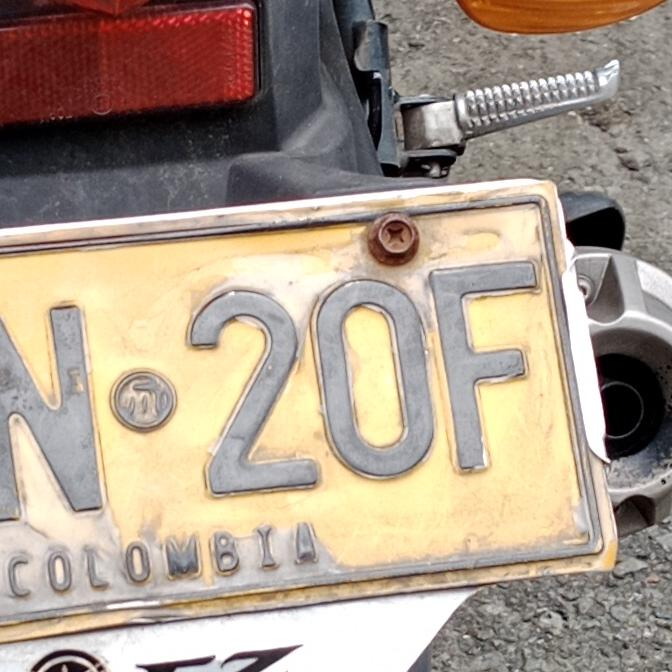plates: (0, 169, 633, 659)
